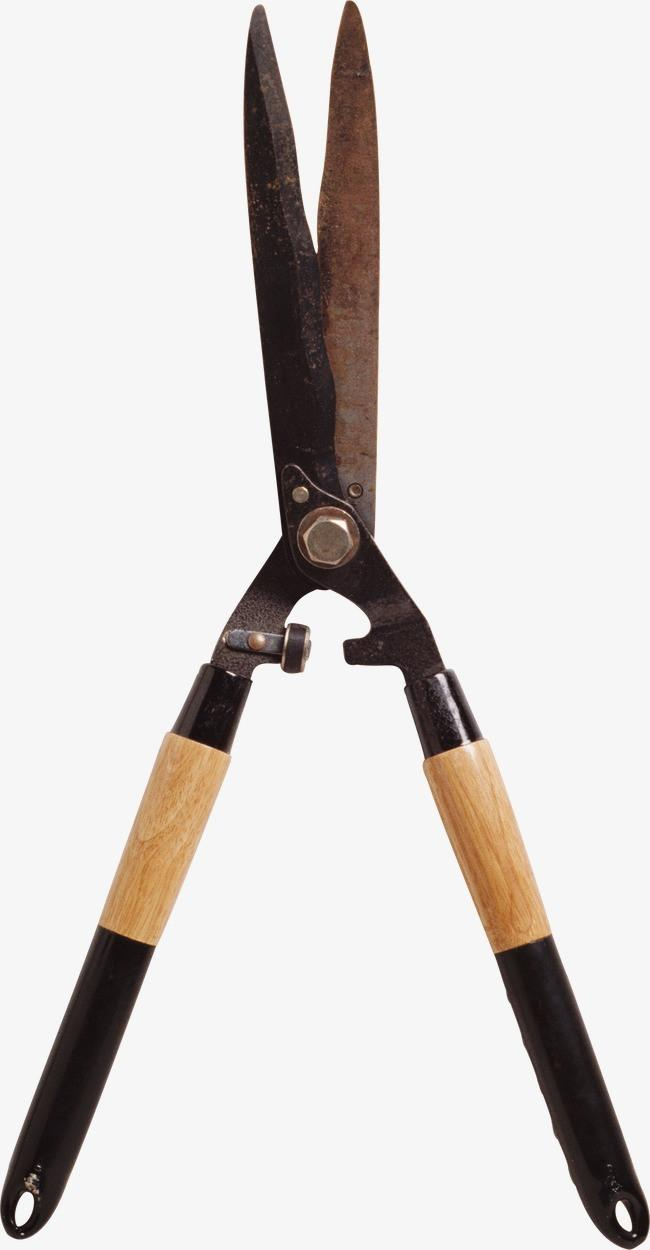scissor: (133, 10, 636, 1234)
